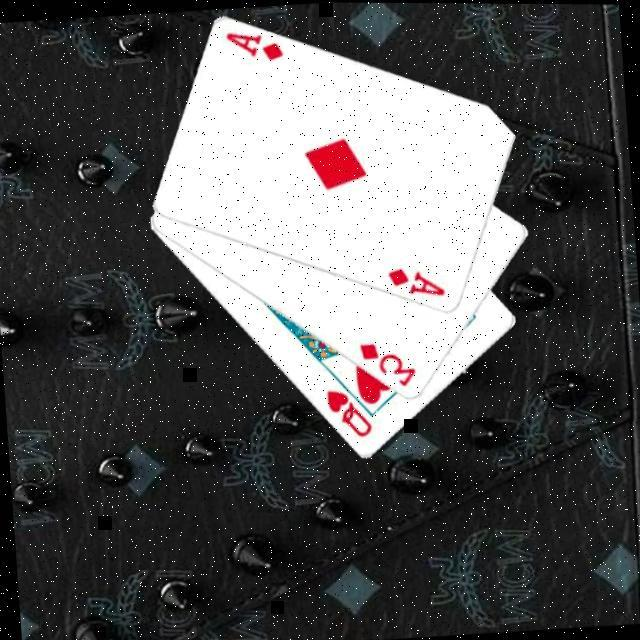3D: (354, 334, 419, 390)
AD: (220, 24, 286, 64), (383, 260, 448, 300)
QH: (321, 382, 375, 441)
